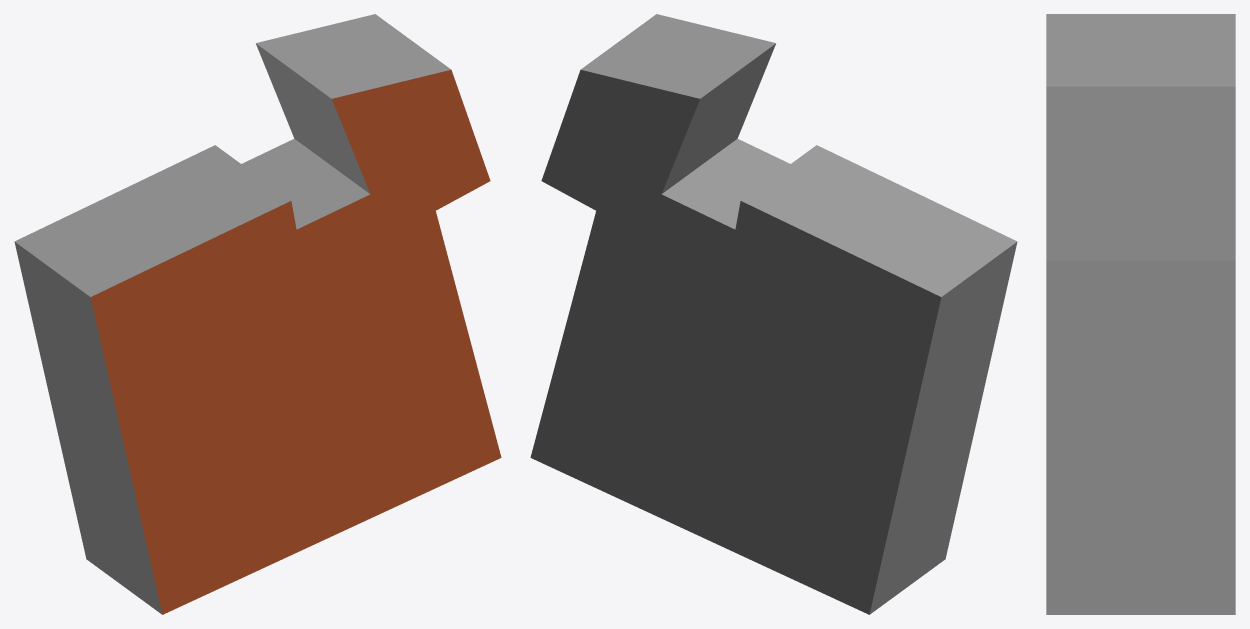
The model's file is construction_1957_assumed_A_Casa_h6m.obj.
3 views of the same model, side by side, from view 1: azimuth 30°, elevation 25°; view 2: azimuth 150°, elevation 25°; view 3: azimuth 270°, elevation 25° (orthographic). The views are drawn at different scales.
Parts seen in each view (by area): view 1: construction_1957_assumed_A_Casa; view 2: construction_1957_assumed_A_Casa; view 3: construction_1957_assumed_A_Casa.
Boxes of the visible parts, bbox=[...] form: construction_1957_assumed_A_Casa: bbox=[14, 14, 501, 614]; construction_1957_assumed_A_Casa: bbox=[530, 14, 1017, 614]; construction_1957_assumed_A_Casa: bbox=[1046, 14, 1235, 614].
Bounding box in the file's own units: 18.71 × 20.65 × 6.
